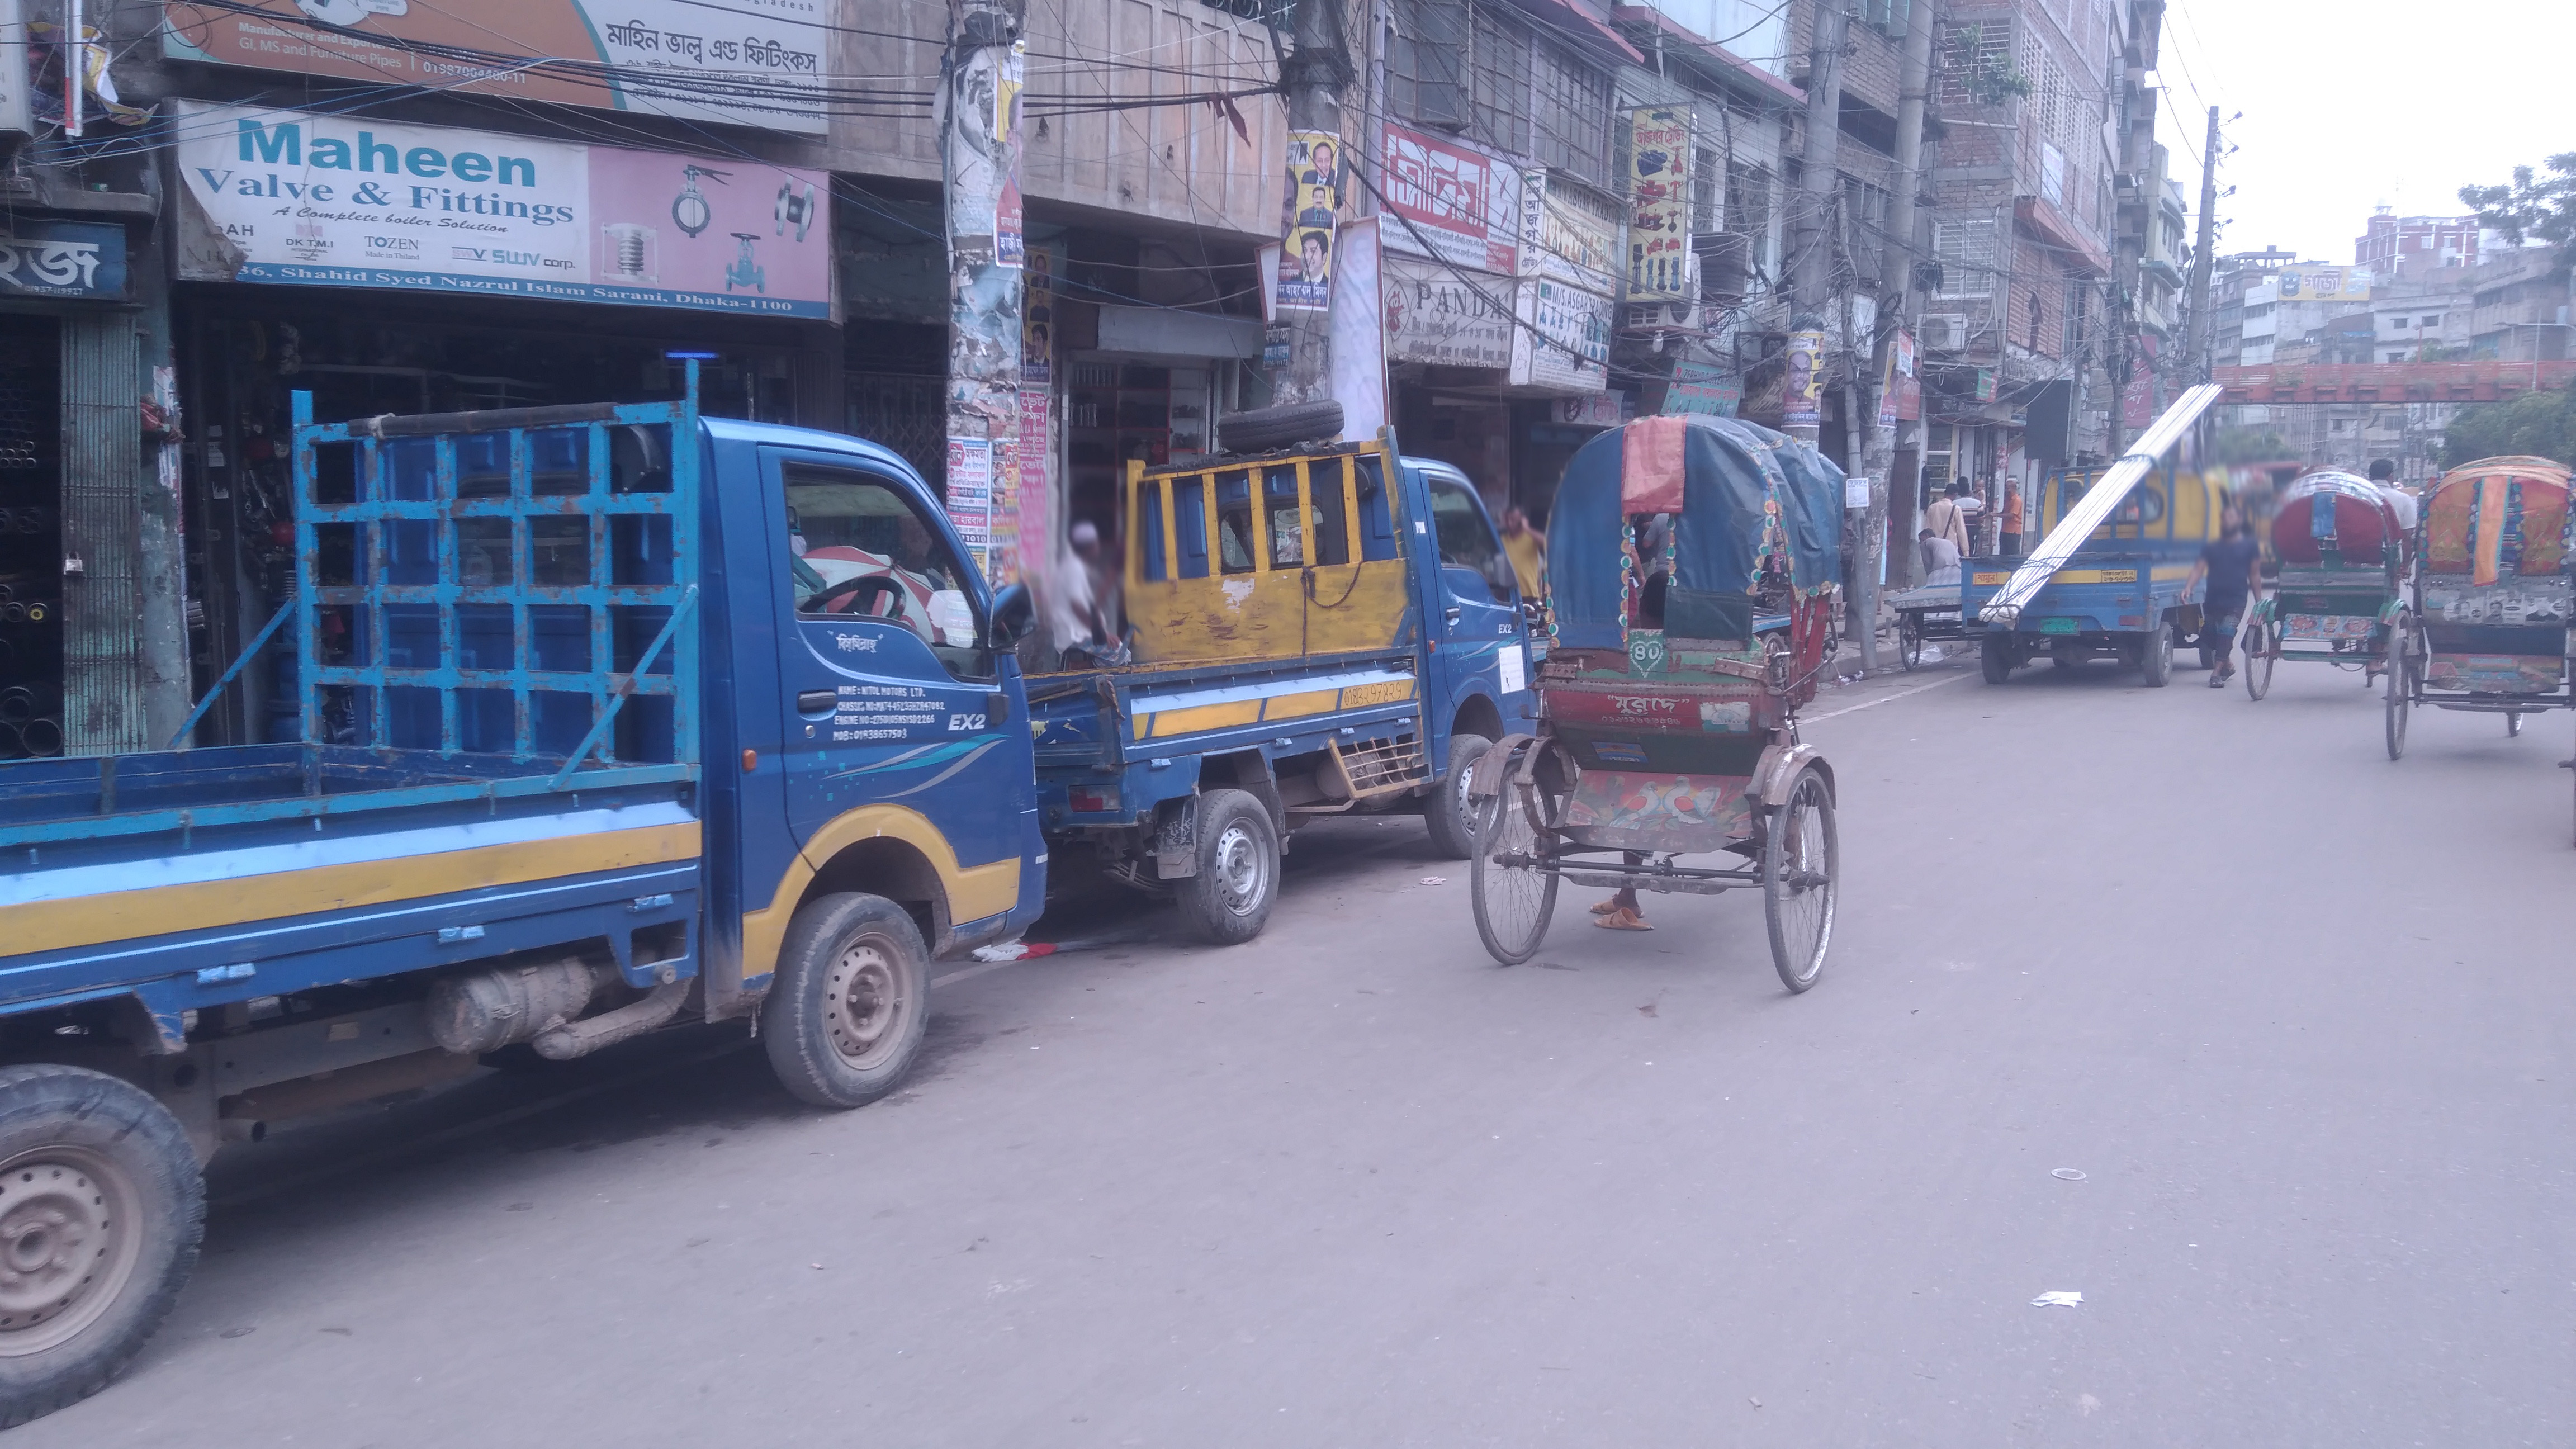rickshaw: (1453, 400, 1845, 993), (2367, 432, 2576, 780), (2231, 460, 2443, 715)
truck: (7, 329, 1069, 1440), (973, 414, 1569, 945), (1955, 446, 2263, 685)
